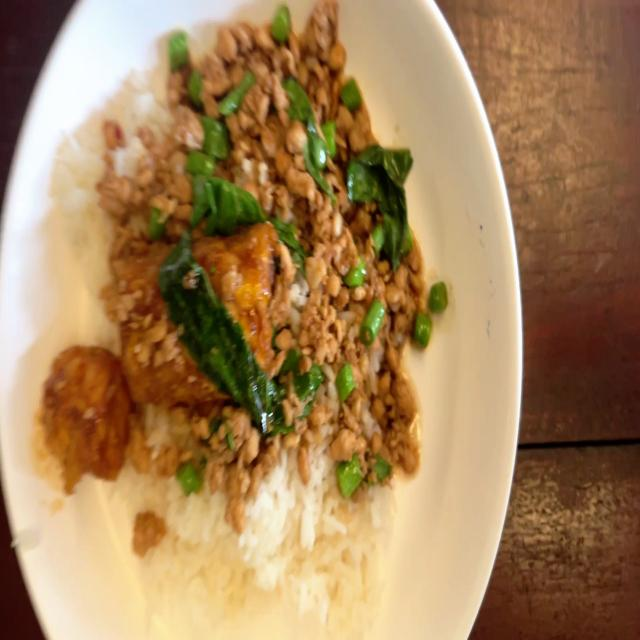fried_tofo: (125, 235, 272, 394), (42, 346, 135, 479)
minced_pork: (180, 5, 413, 241), (276, 233, 433, 478), (151, 410, 285, 493), (102, 108, 125, 320), (124, 175, 182, 228), (130, 512, 162, 554)
rice: (173, 484, 397, 624), (63, 117, 99, 283), (118, 60, 163, 174)
stir_fried_basil: (37, 6, 440, 630)
